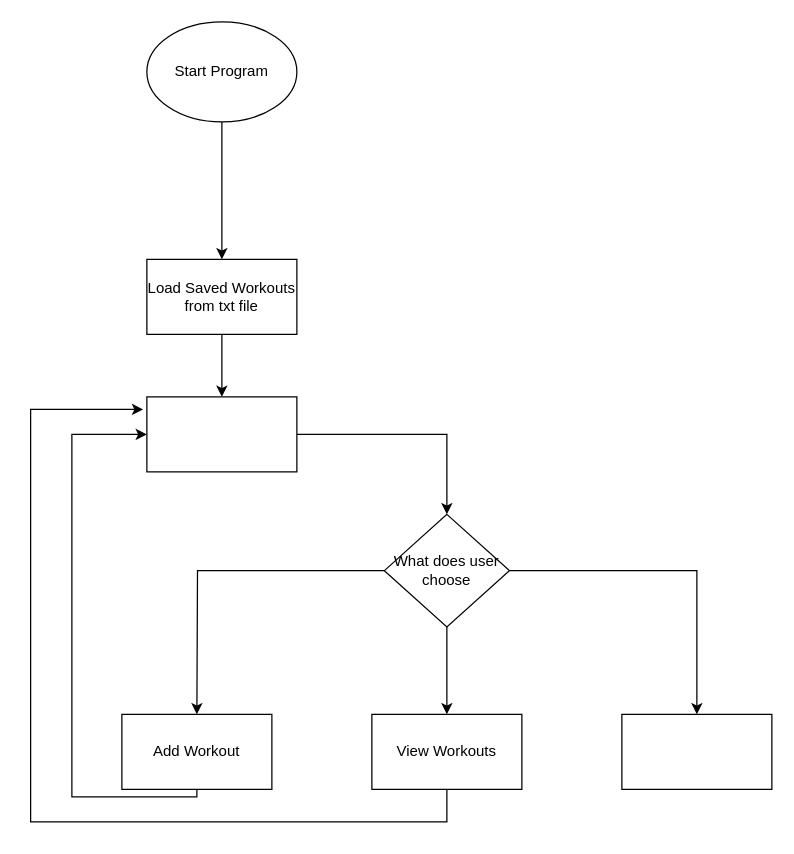
This 794x854 diagram has some shape labels left out. The shapes that lost their labels are listed below. From the top down, each one's centre as x and y in pixels, then its label:
pixel 221 434: Display Main Menu
pixel 696 751: Exit
